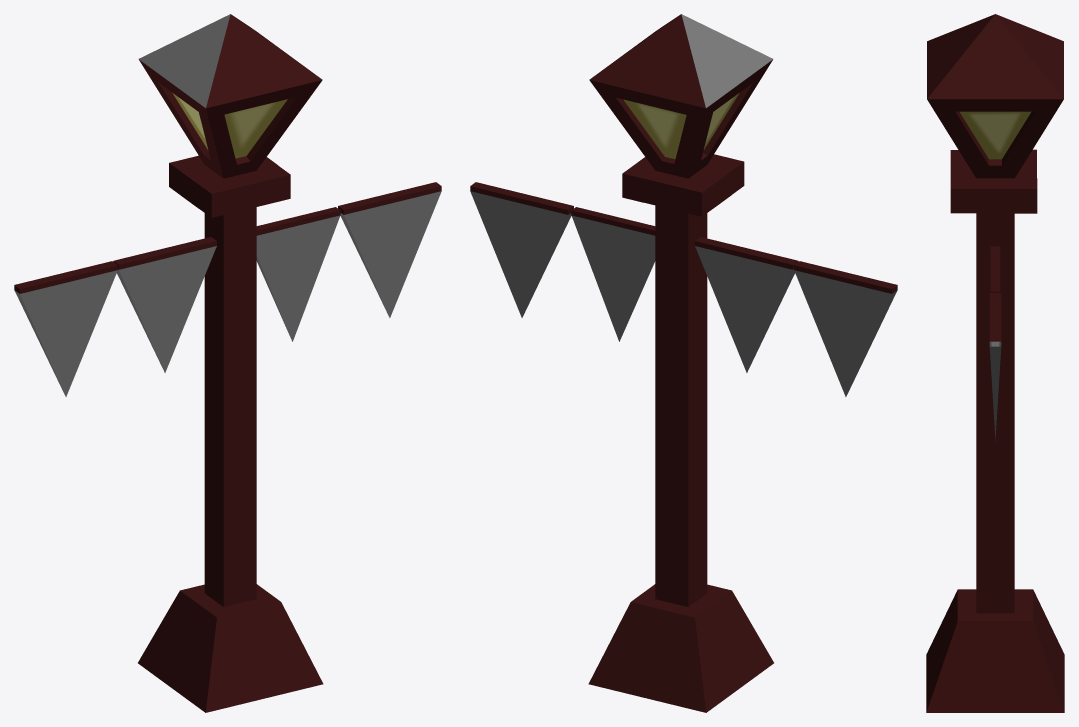
File: lamppostwithdecor.fbx
The picture shows the model from 3 angles, left to right: view 1: azimuth 30°, elevation 25°; view 2: azimuth 150°, elevation 25°; view 3: azimuth 270°, elevation 25°; orthographic projection.
Parts seen in each view (by area): view 1: Cube; view 2: Cube; view 3: Cube.
Boxes of the visible parts, x1=… form: Cube: x1=14, y1=14, x2=441, y2=712; Cube: x1=470, y1=14, x2=897, y2=712; Cube: x1=926, y1=14, x2=1064, y2=712.
Bounding box in the file's own units: 518 × 774 × 145.
